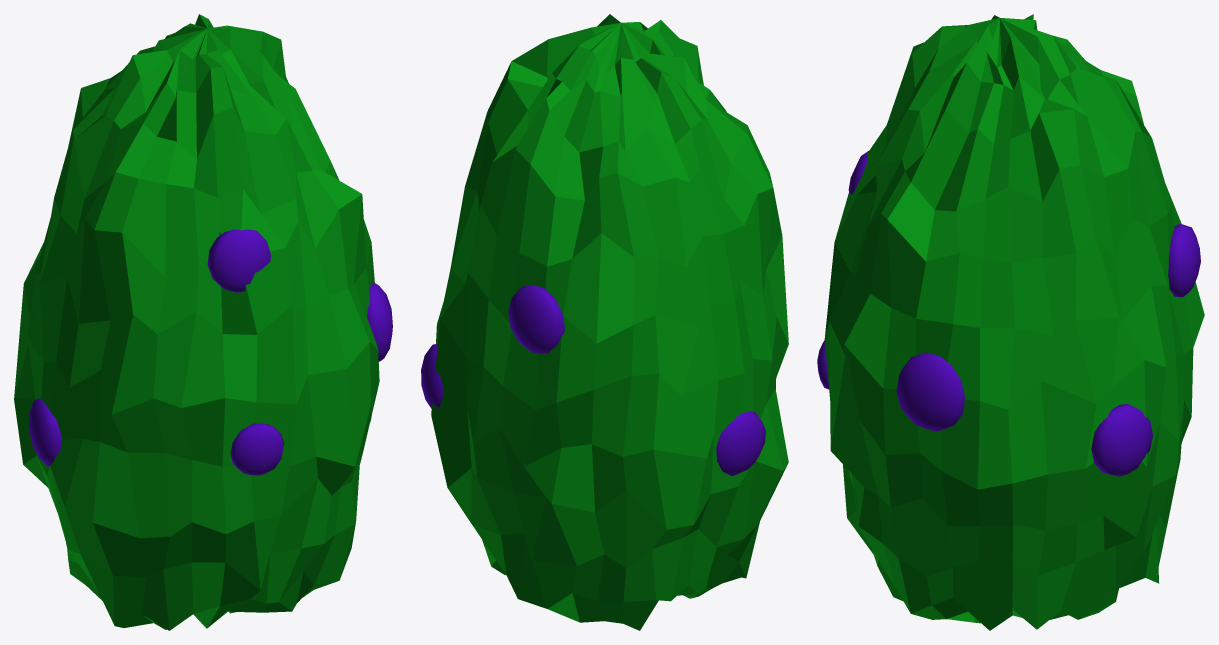
File: buisson_montagne.fbx
3 views of the same model, side by side, from view 1: azimuth 30°, elevation 25°; view 2: azimuth 150°, elevation 25°; view 3: azimuth 270°, elevation 25° (orthographic). The views are drawn at different scales.
Visible parts, largest first — view 1: Sphere; view 2: Sphere; view 3: Sphere.
Boxes of the visible parts, x1=… form: Sphere: x1=14, y1=14, x2=392, y2=630; Sphere: x1=421, y1=14, x2=788, y2=630; Sphere: x1=817, y1=14, x2=1204, y2=630.
Size of the model in its own units: 180 by 310 by 186.
